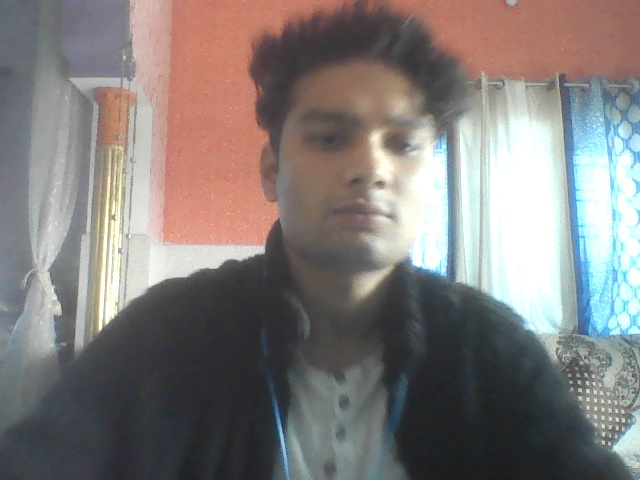real: (252, 3, 454, 290)
